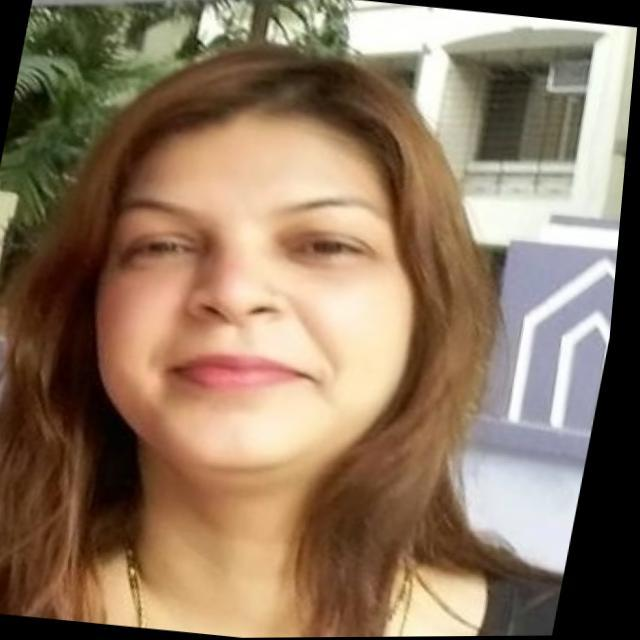Nonhelmet: (68, 31, 438, 488)
